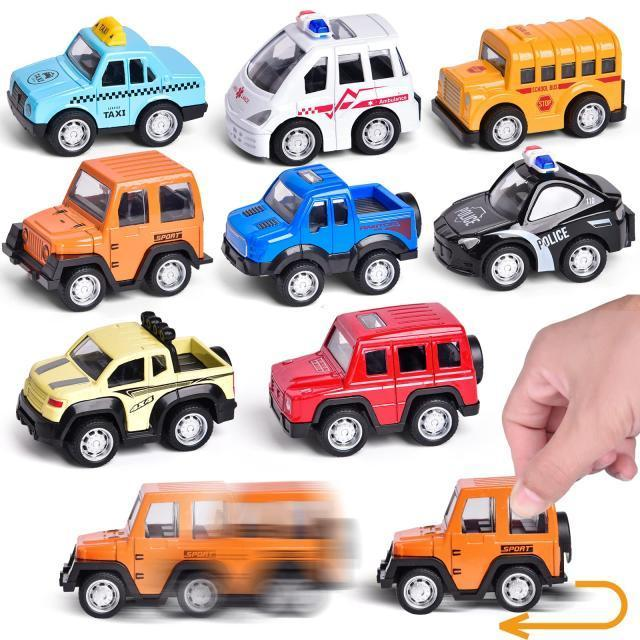hard-toy: (61, 484, 347, 619), (19, 312, 237, 467), (4, 152, 212, 311), (271, 306, 485, 456), (227, 12, 421, 166), (436, 147, 636, 290), (222, 166, 421, 307), (9, 19, 209, 157), (379, 477, 572, 614), (432, 19, 627, 151)
